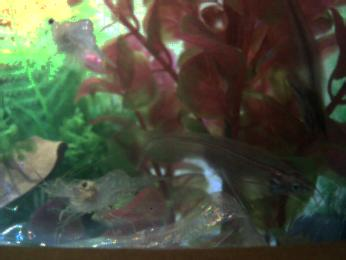glassfish: (140, 121, 315, 201), (275, 1, 336, 147)
siberian prawn: (48, 167, 171, 225), (47, 17, 110, 72)
